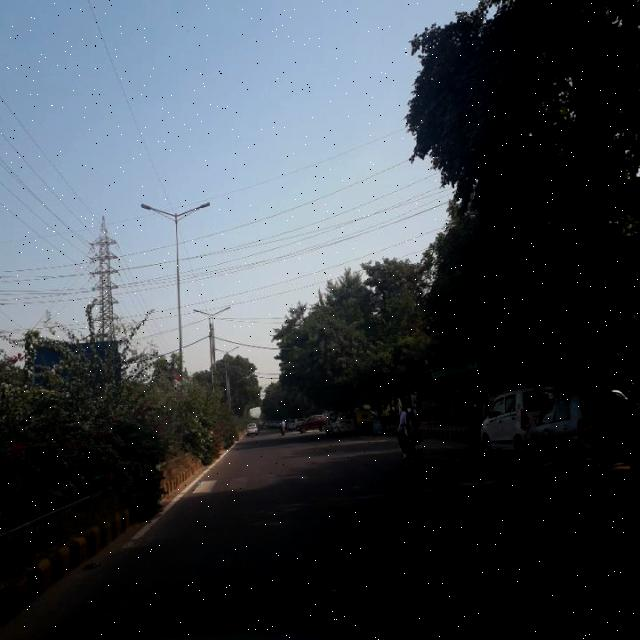D43: (185, 444, 394, 506)
